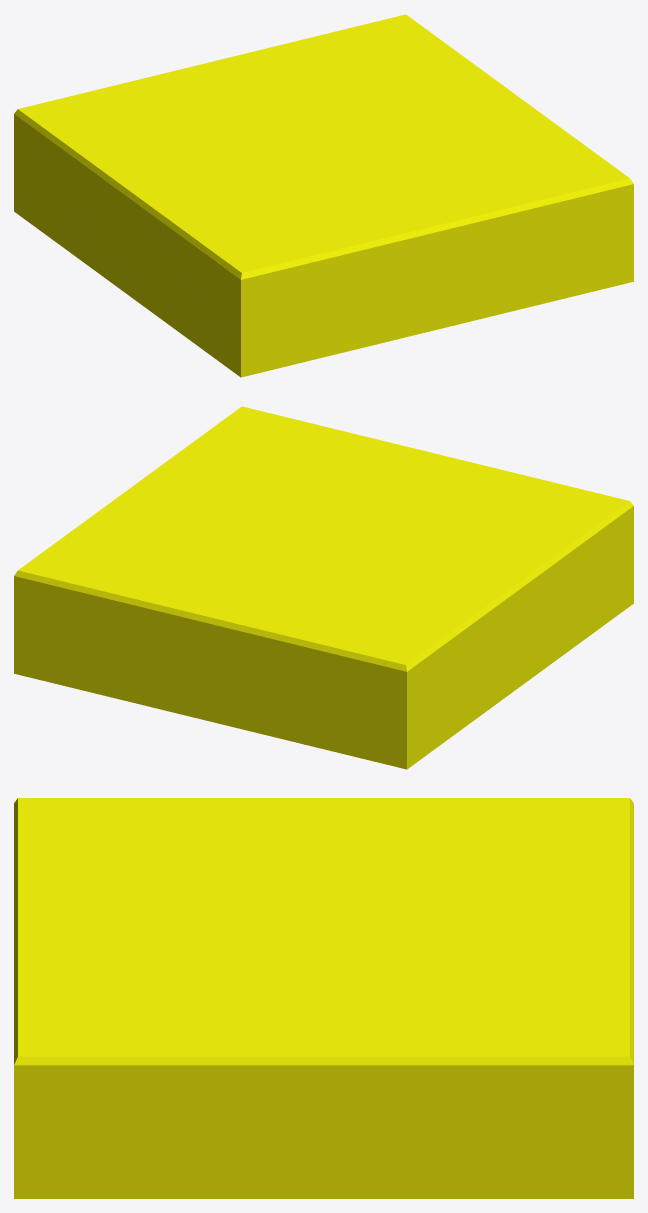
Rendered from kaykit-floor-kitchen-small.glb.
The picture shows the model from 3 angles, top to bottom: view 1: azimuth 30°, elevation 25°; view 2: azimuth 150°, elevation 25°; view 3: azimuth 270°, elevation 25°; orthographic projection. The views are drawn at different scales.
Visible parts, largest first — view 1: floor_kitchen_small; view 2: floor_kitchen_small; view 3: floor_kitchen_small.
Part boxes in pixels (left/top/right/bottom): floor_kitchen_small: left=14, top=14, right=633, bottom=377; floor_kitchen_small: left=14, top=406, right=633, bottom=769; floor_kitchen_small: left=14, top=798, right=633, bottom=1198.
Bounding box in the file's own units: 2 × 0.5001 × 2.
